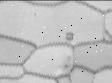good_void: (65, 30, 75, 41)
